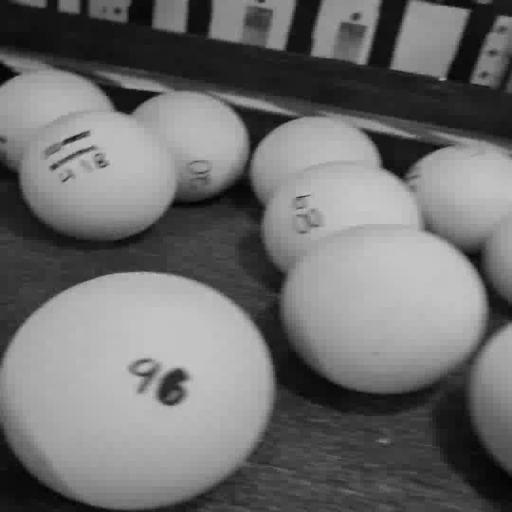fuel: (0, 272, 275, 511), (280, 225, 488, 394), (19, 110, 177, 240), (261, 162, 423, 273), (132, 91, 250, 202), (249, 116, 382, 205), (0, 70, 115, 171), (404, 144, 511, 252), (468, 324, 511, 473), (483, 215, 511, 304)
